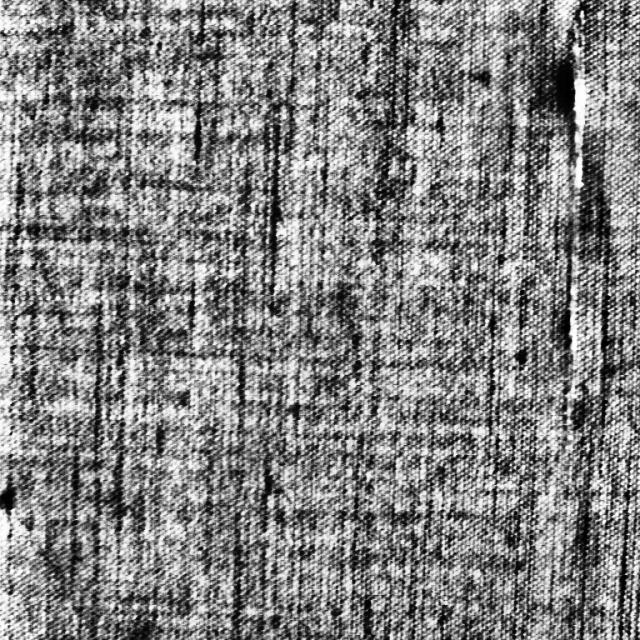Stitch: (551, 0, 598, 418)
